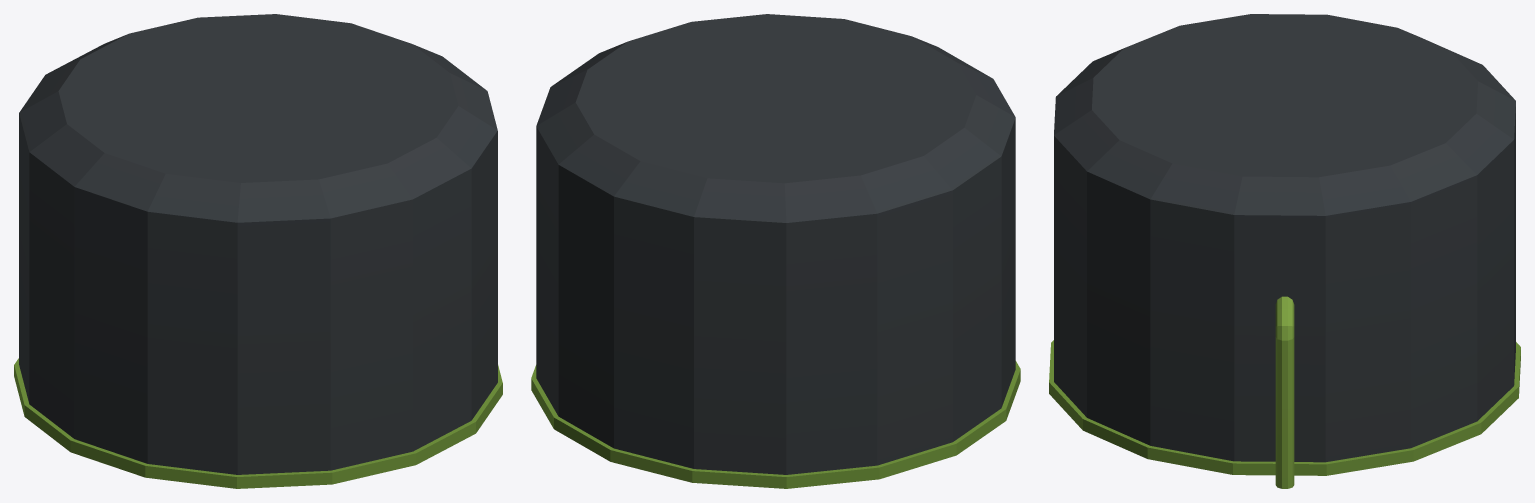
Rendered from Factory_04.fbx.
3 views of the same model, side by side, from view 1: azimuth 30°, elevation 25°; view 2: azimuth 150°, elevation 25°; view 3: azimuth 270°, elevation 25° (orthographic). The views are drawn at different scales.
Parts seen in each view (by area): view 1: Factory_04; view 2: Factory_04; view 3: Factory_04.
Boxes of the visible parts, x1=… form: Factory_04: x1=14, y1=14, x2=502, y2=488; Factory_04: x1=531, y1=14, x2=1020, y2=488; Factory_04: x1=1049, y1=14, x2=1520, y2=488.
Bounding box in the file's own units: 10.1 × 6.22 × 9.48.
